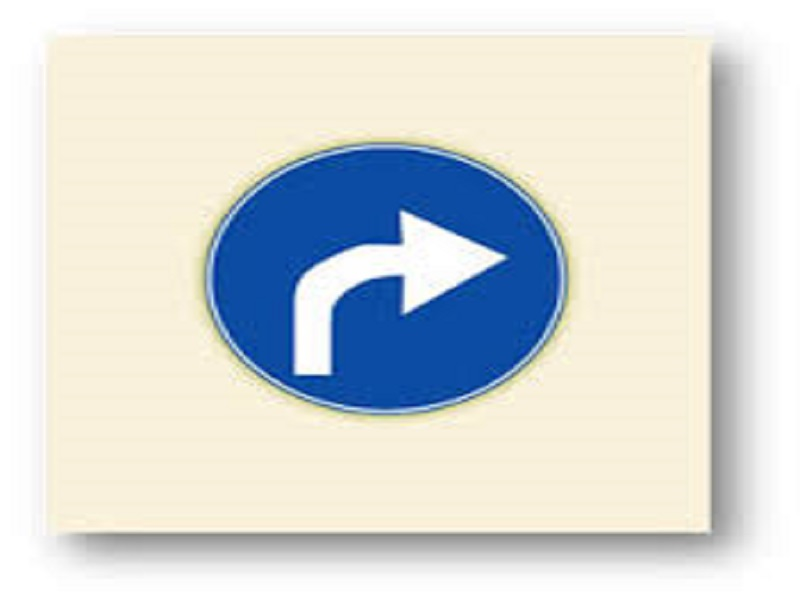sagaDon: (199, 130, 568, 414)
